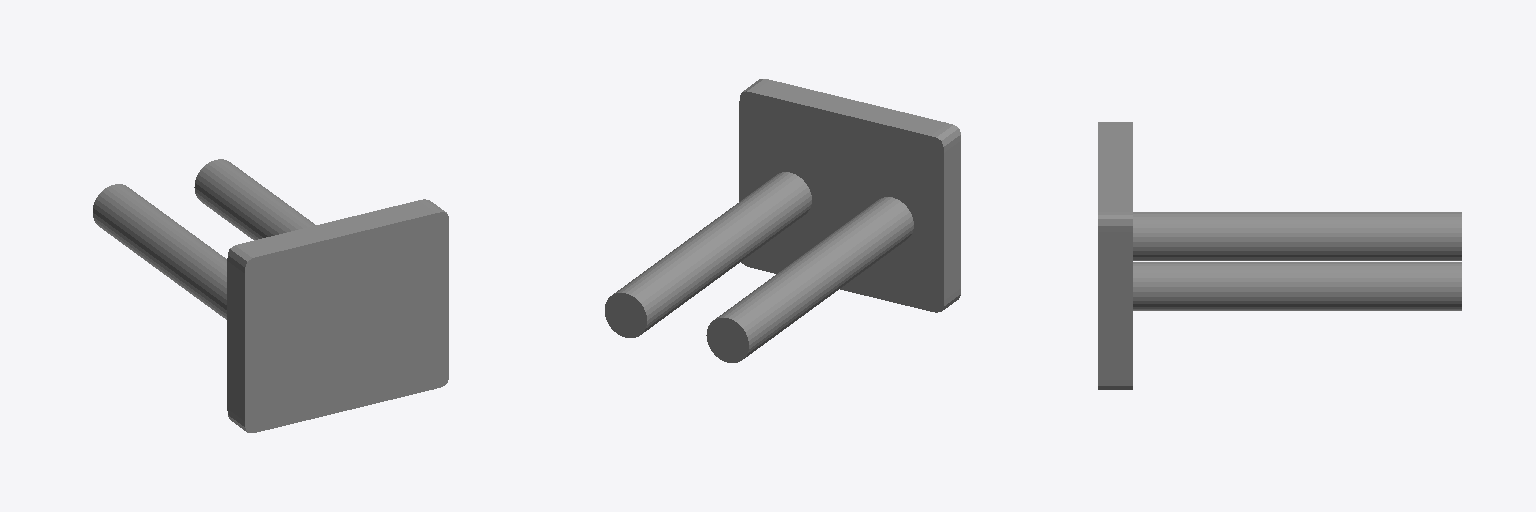
File: planchas_damage_R.obj
The picture shows the model from 3 angles: view 1: azimuth 30°, elevation 25°; view 2: azimuth 150°, elevation 25°; view 3: azimuth 270°, elevation 25°; orthographic projection.
Parts seen in each view (by area): view 1: Cylinder; view 2: Cylinder; view 3: Cylinder.
Part boxes in pixels (left/top/right/bottom): Cylinder: left=93, top=159, right=448, bottom=432; Cylinder: left=605, top=79, right=960, bottom=362; Cylinder: left=1098, top=122, right=1461, bottom=389.
Bounding box in the file's own units: 2.04 × 1.68 × 3.16.